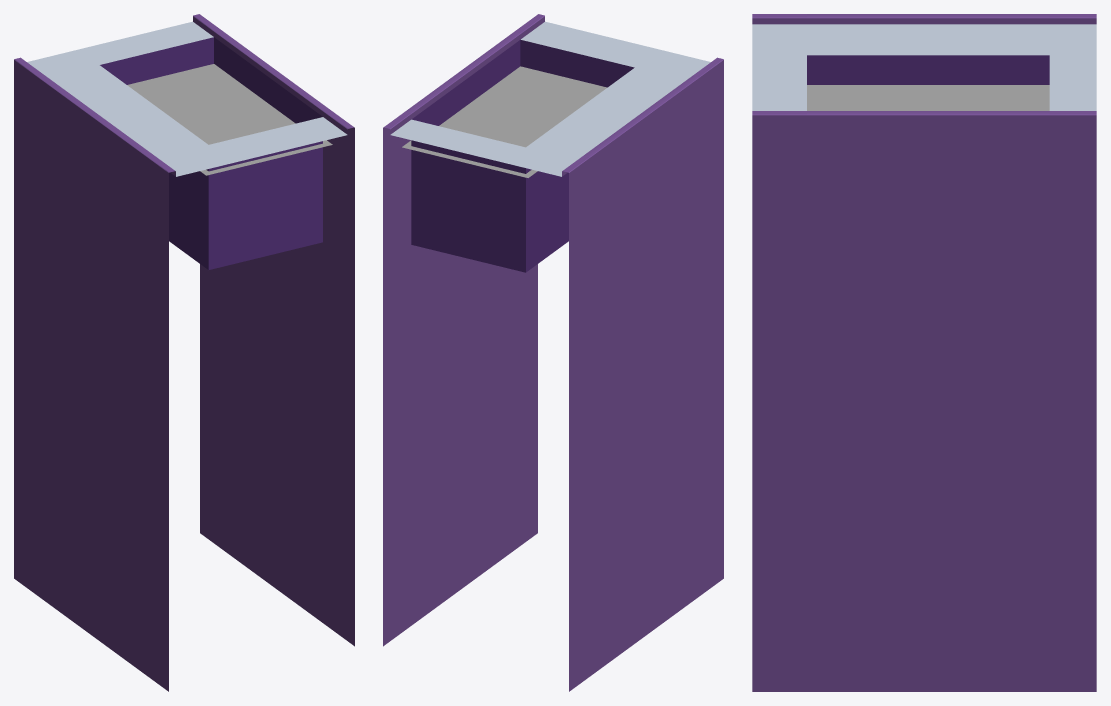
Rendered from SM_Platform_WaterRoads.fbx.
The picture shows the model from 3 angles, left to right: view 1: azimuth 30°, elevation 25°; view 2: azimuth 150°, elevation 25°; view 3: azimuth 270°, elevation 25°; orthographic projection. The views are drawn at different scales.
Visible parts, largest first — view 1: SM_Platform_WaterRoad_L2; view 2: SM_Platform_WaterRoad_L2; view 3: SM_Platform_WaterRoad_L2.
Boxes of the visible parts, box(x1,y1,x2,y2) form: SM_Platform_WaterRoad_L2: box(14, 14, 354, 691); SM_Platform_WaterRoad_L2: box(383, 14, 723, 691); SM_Platform_WaterRoad_L2: box(752, 14, 1096, 691).
Size of the model in its own units: 650 by 1734 by 938.
